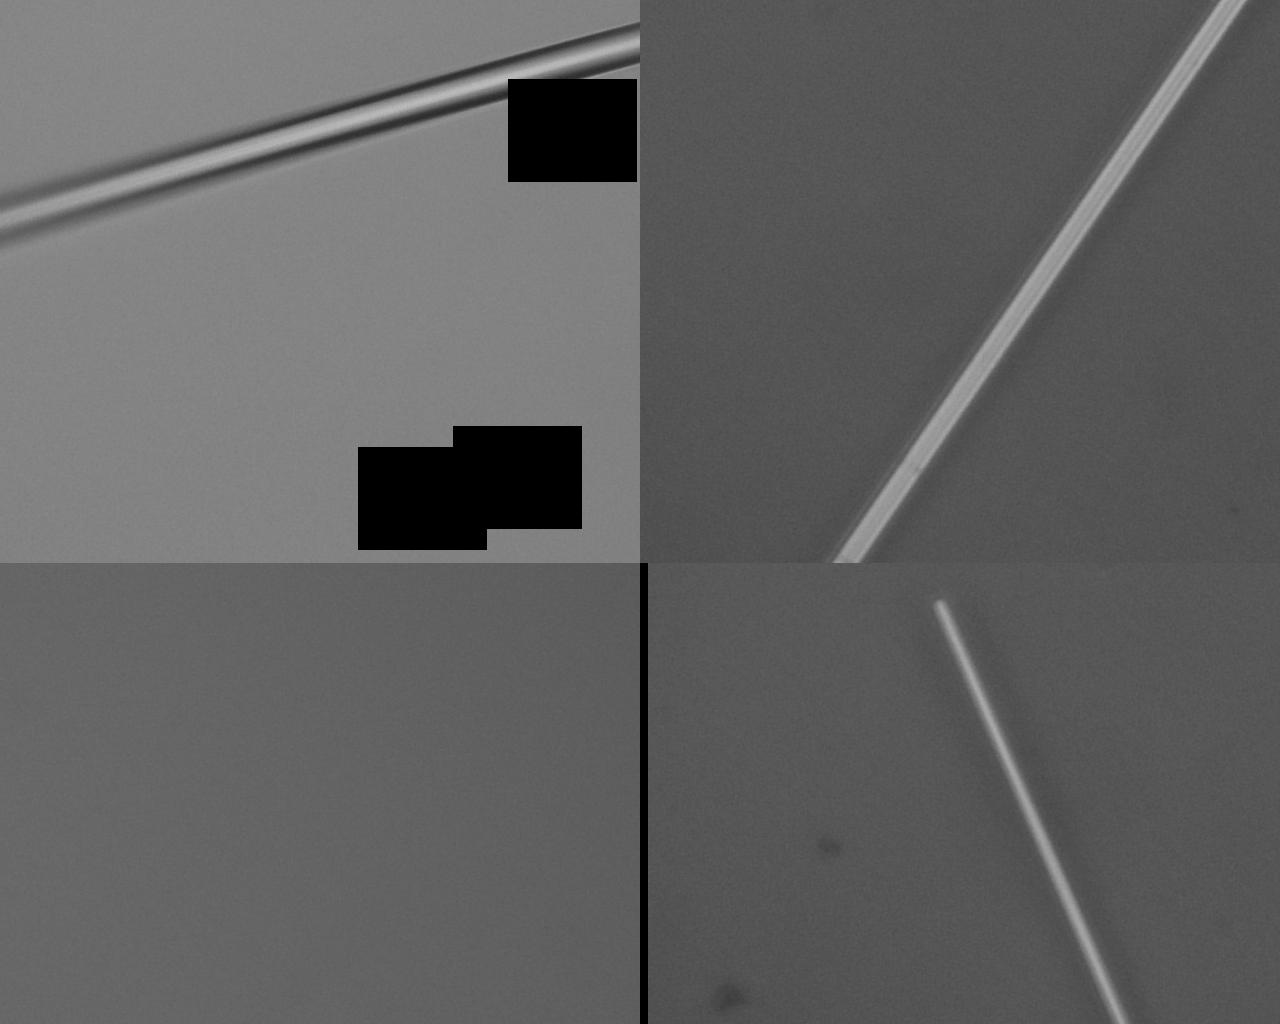fiber: (147, 317, 614, 755), (939, 317, 1164, 1024), (633, 122, 1158, 317), (391, 0, 458, 317)
